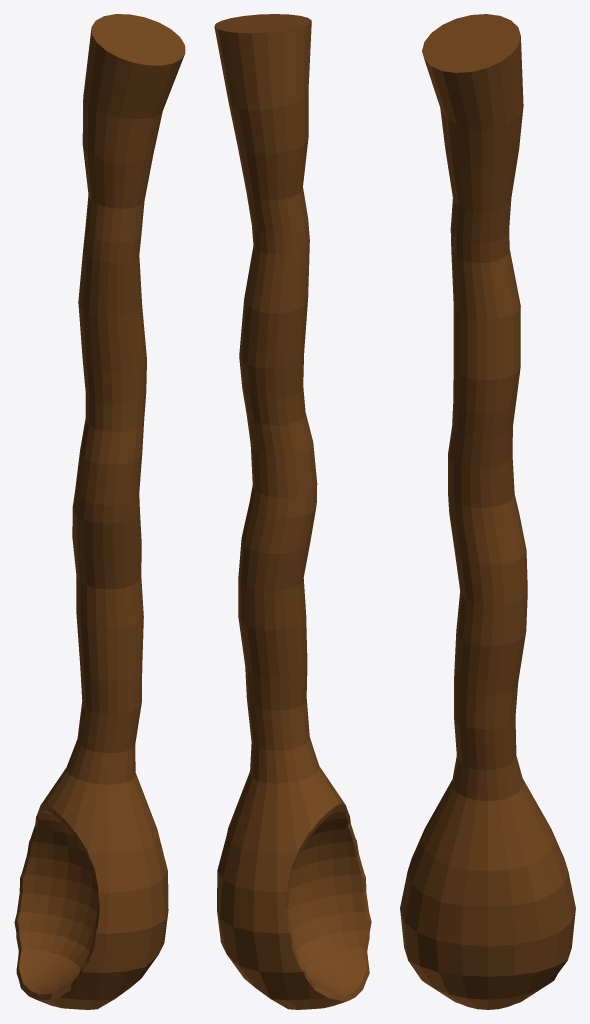
Rendered from BPW_Spoon.fbx.
3 renders of one model, left to right at view 1: azimuth 30°, elevation 25°; view 2: azimuth 150°, elevation 25°; view 3: azimuth 270°, elevation 25°, orthographic. The views are drawn at different scales.
Parts seen in each view (by area): view 1: Cylinder; view 2: Cylinder; view 3: Cylinder.
Boxes of the visible parts, x1,y1,x2,y2 form: Cylinder: (14, 14, 185, 1009); Cylinder: (214, 14, 371, 1009); Cylinder: (400, 14, 575, 1009).
Size of the model in its own units: 166 by 1077 by 172.
